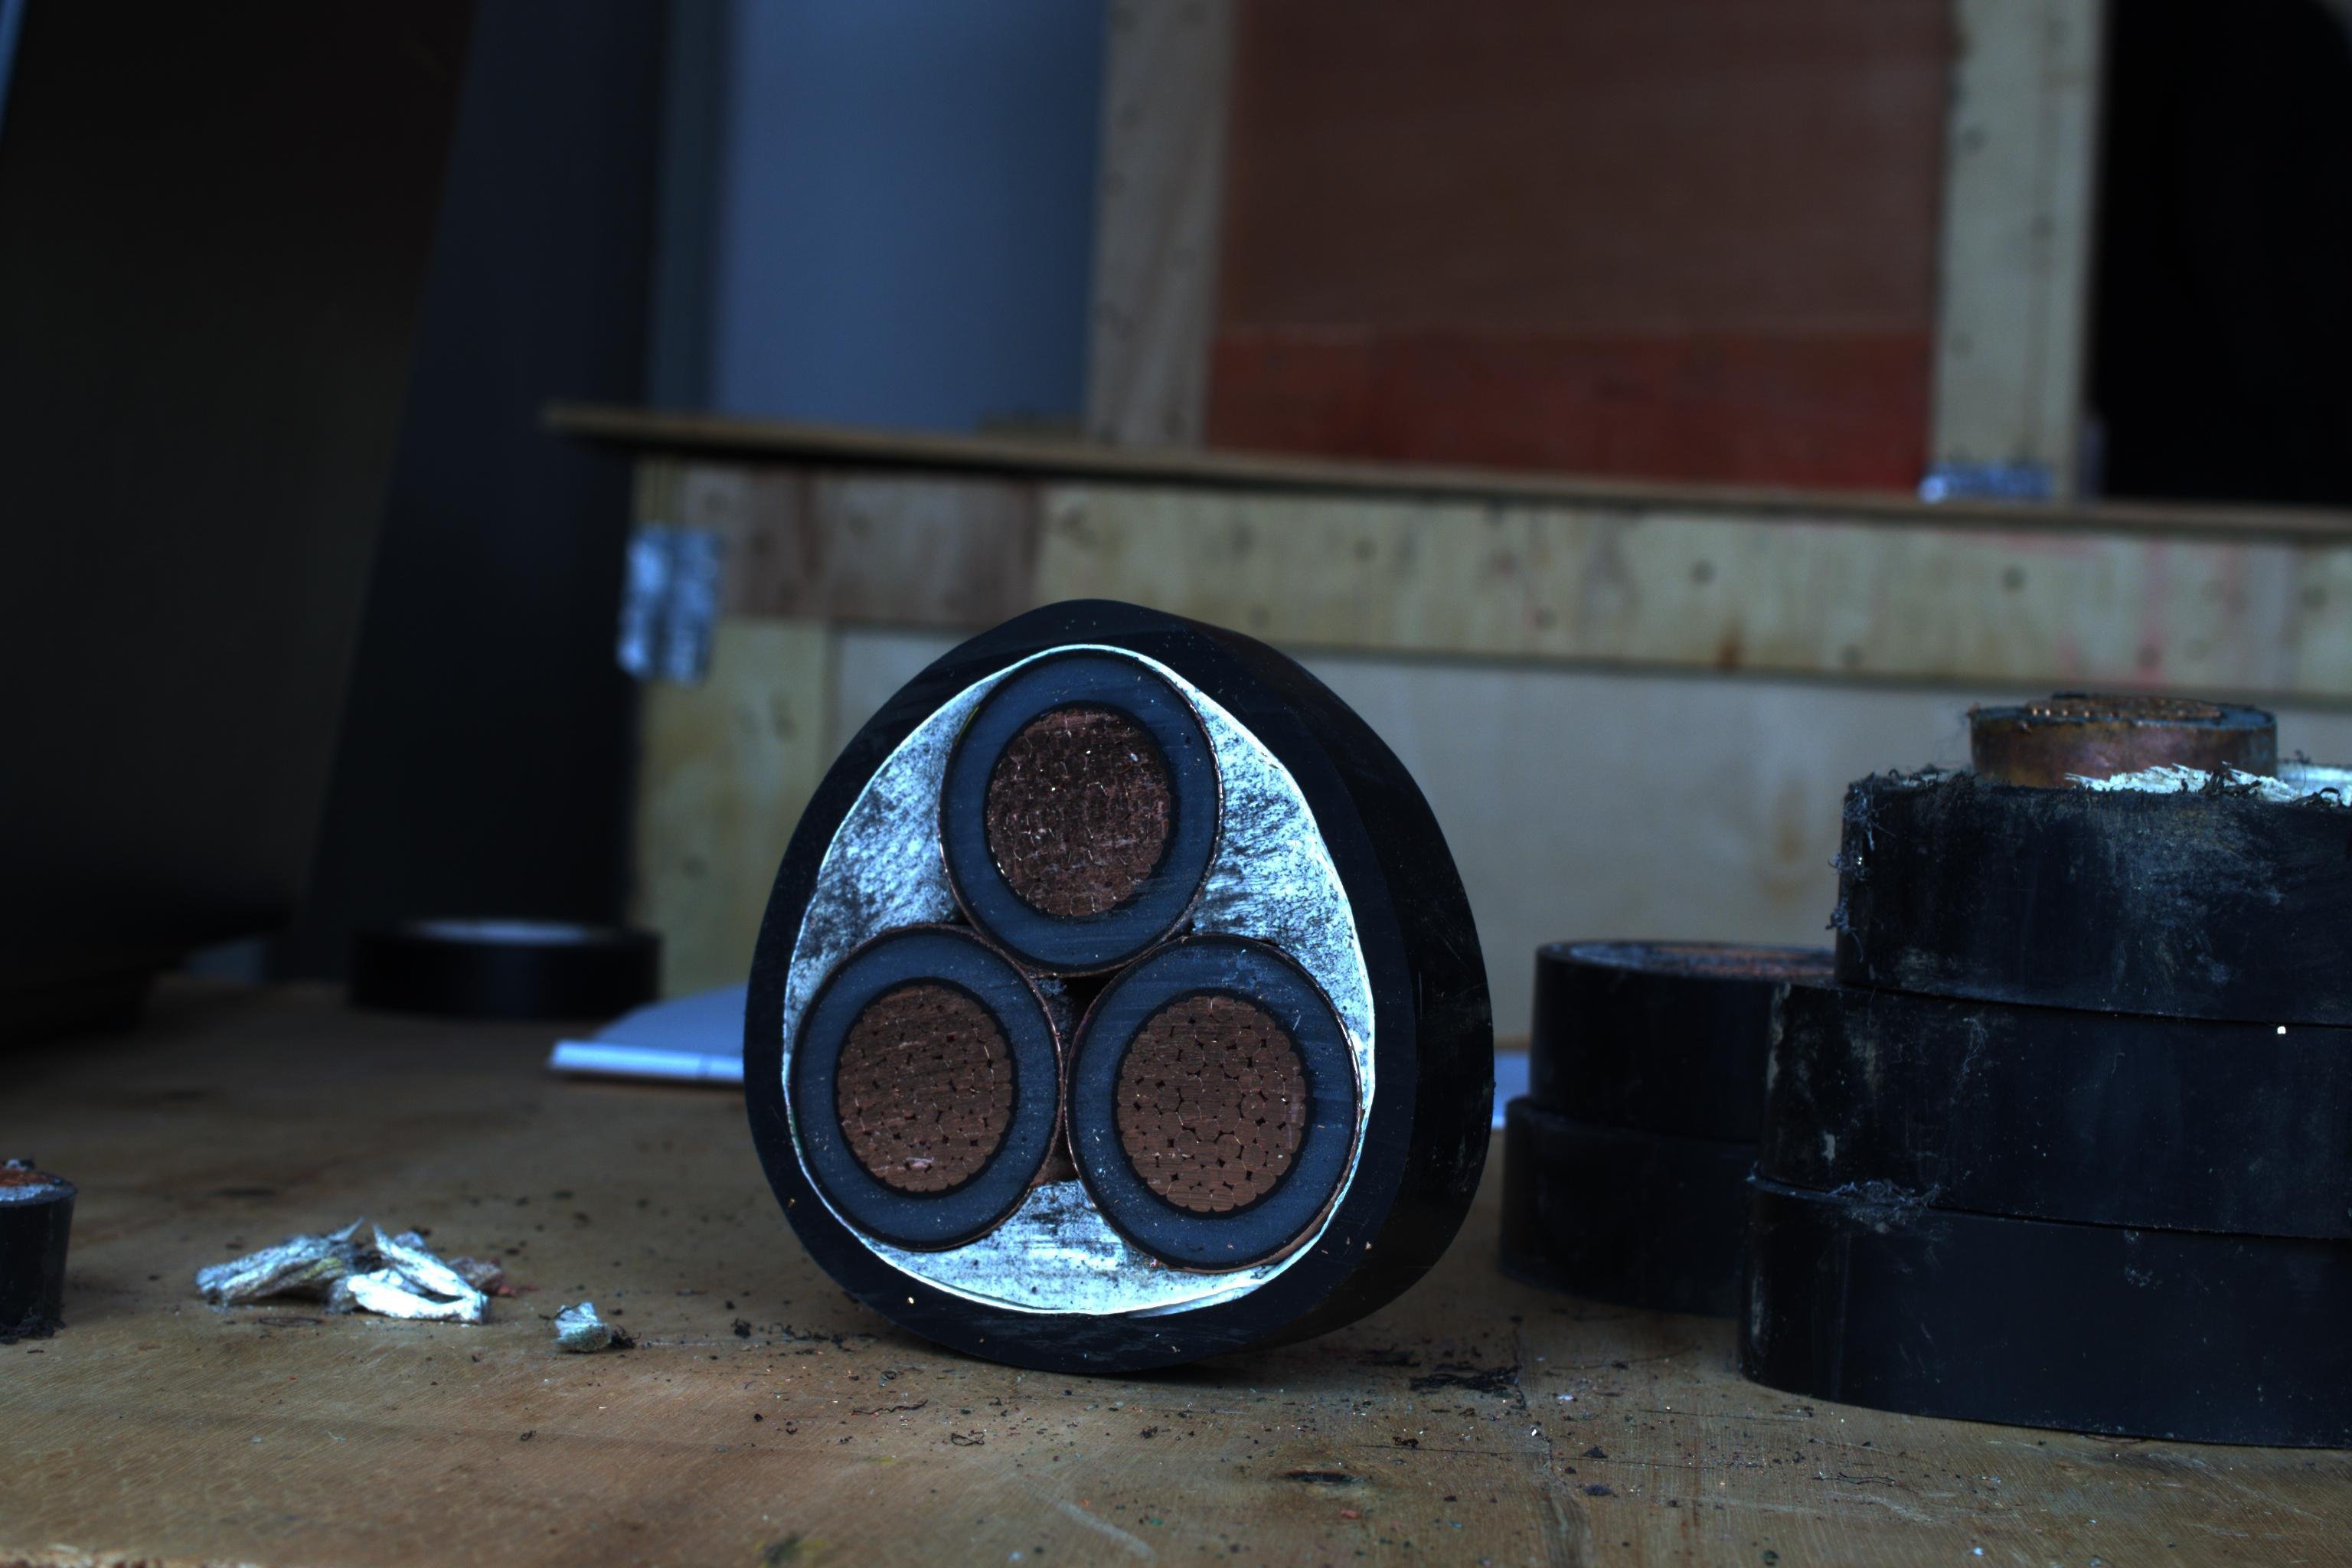ZA_YJV_8.7_10kV_3x400: (747, 625, 1384, 1353)
